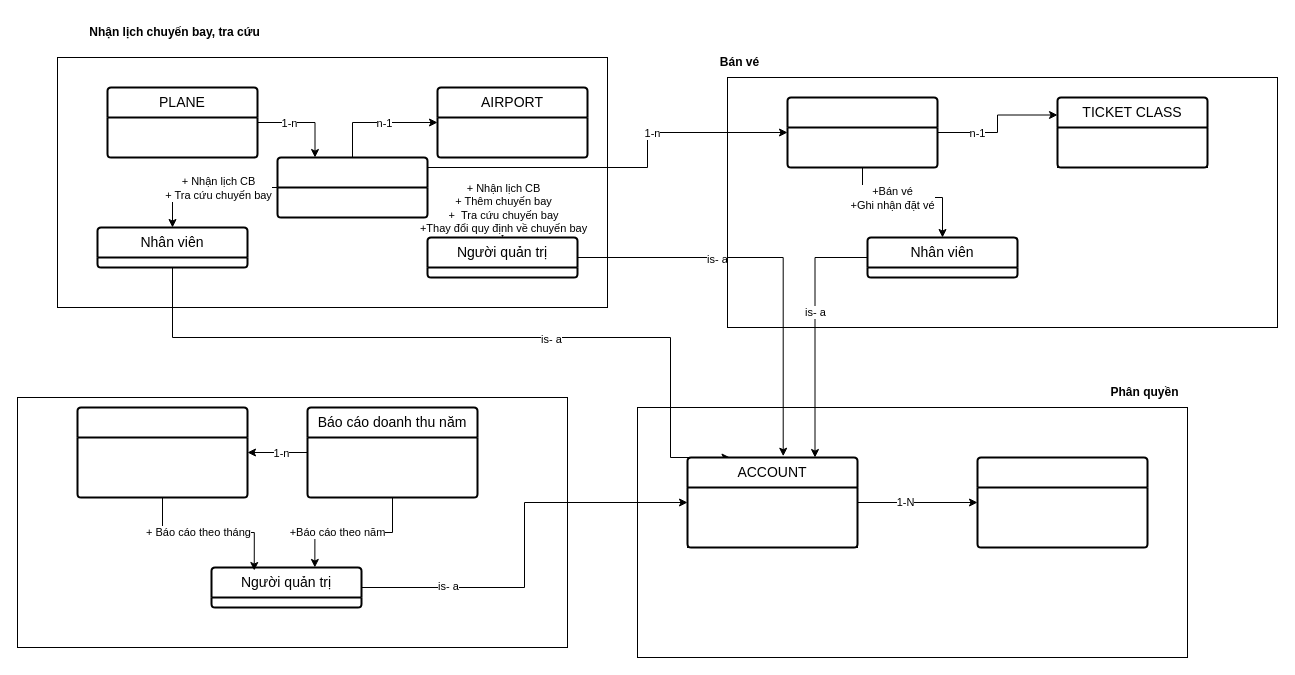
This 1295x675 diagram has some shape labels left out. The shapes that lost their labels are listed below. From the top down, each one's centre as x and y in pixels, then its label:
(862,132): FLIGHT_TICKET
(352,187): FLIGHT
(162,452): Báo cáo doanh thu tháng
(1062,502): PERMISSION
